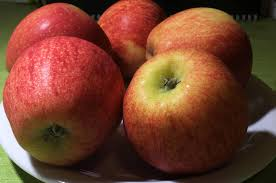apple: (131, 56, 244, 166), (6, 47, 114, 162), (145, 6, 255, 81), (13, 7, 111, 67), (99, 3, 162, 62)
